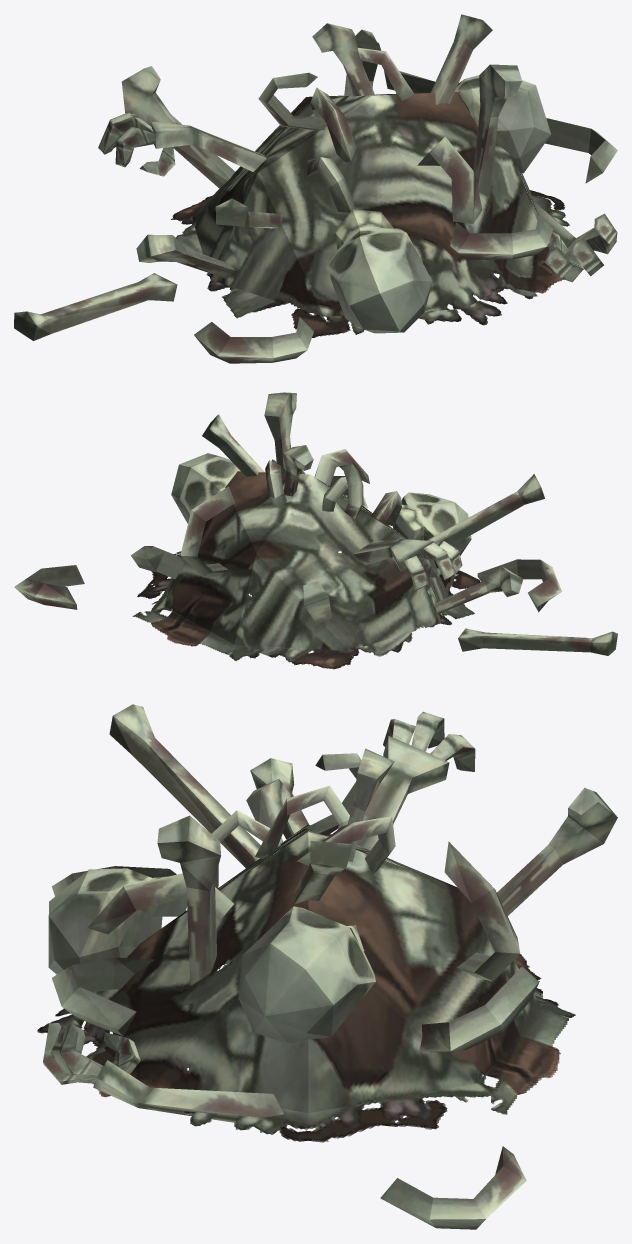
The model's file is mine_bonepile_01.fbx.
3 views of the same model, one above another, from view 1: azimuth 30°, elevation 25°; view 2: azimuth 150°, elevation 25°; view 3: azimuth 270°, elevation 25° (orthographic). The views are drawn at different scales.
Visible parts, largest first — view 1: obj1.010; view 2: obj1.010; view 3: obj1.010.
Boxes of the visible parts, <box> form: obj1.010: <box>14,14,617,363</box>; obj1.010: <box>14,392,617,669</box>; obj1.010: <box>37,704,617,1229</box>.
Size of the model in its own units: 3.08 by 1.04 by 1.92.
